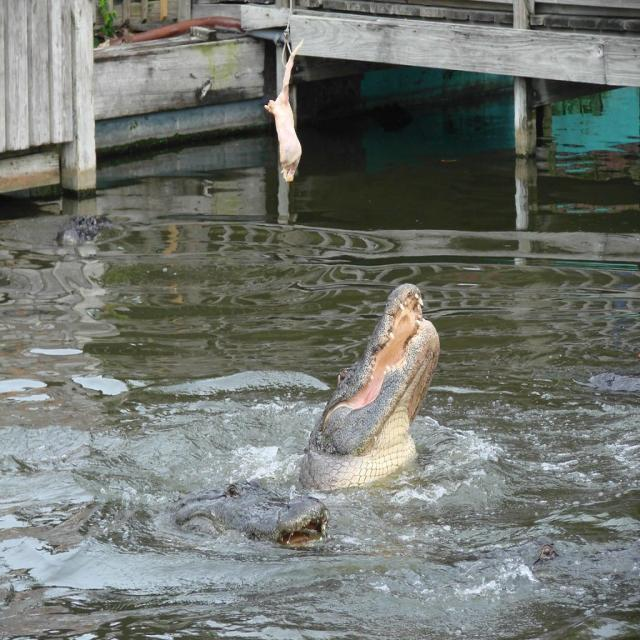crocodile: (145, 273, 463, 580)
